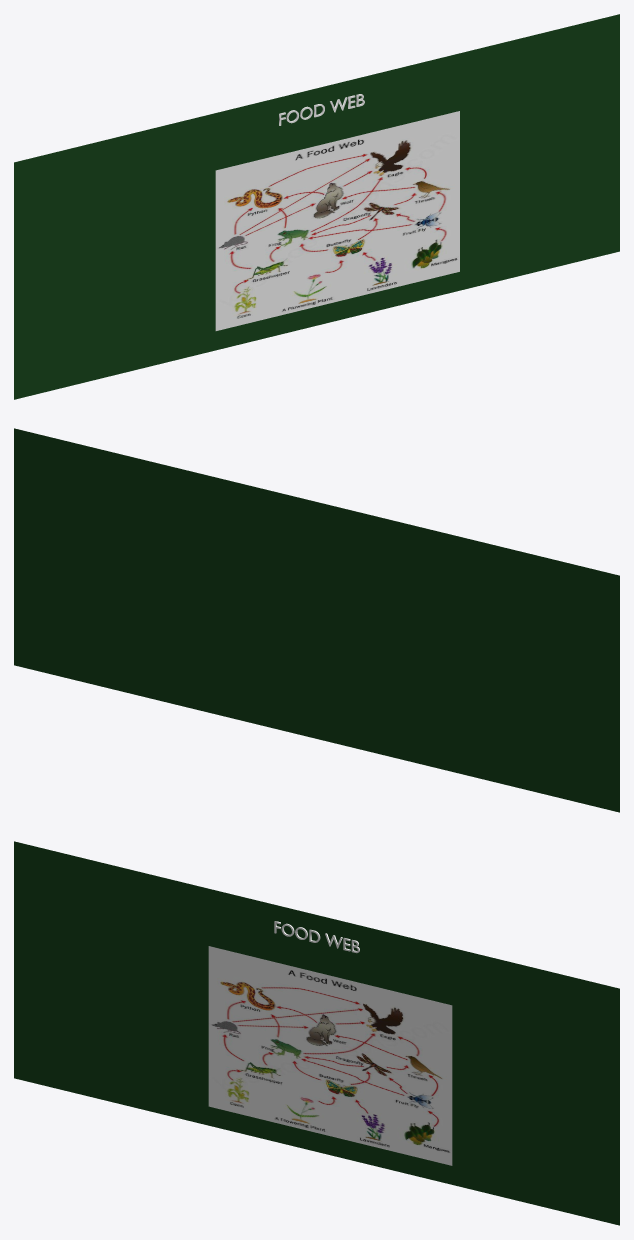
The model's file is foodweb.gltf.
3 renders of one model, top to bottom at view 1: azimuth 30°, elevation 25°; view 2: azimuth 150°, elevation 25°; view 3: azimuth 330°, elevation 25°, orthographic.
Parts seen in each view (by area): view 1: Plane.013, Plane, Text.008; view 2: Plane.013; view 3: Plane.013, Plane, Text.008.
Boxes of the visible parts, left/top/right/bottom form: Plane.013: left=14, top=14, right=619, bottom=399; Plane: left=215, top=111, right=459, bottom=330; Text.008: left=279, top=94, right=364, bottom=125; Plane.013: left=14, top=428, right=619, bottom=812; Plane.013: left=14, top=841, right=619, bottom=1225; Plane: left=208, top=946, right=452, bottom=1165; Text.008: left=274, top=921, right=359, bottom=953.
Bounding box in the file's own units: 15.94 × 5.96 × 0.1767.
Materials: 3 (1 with a texture image).
